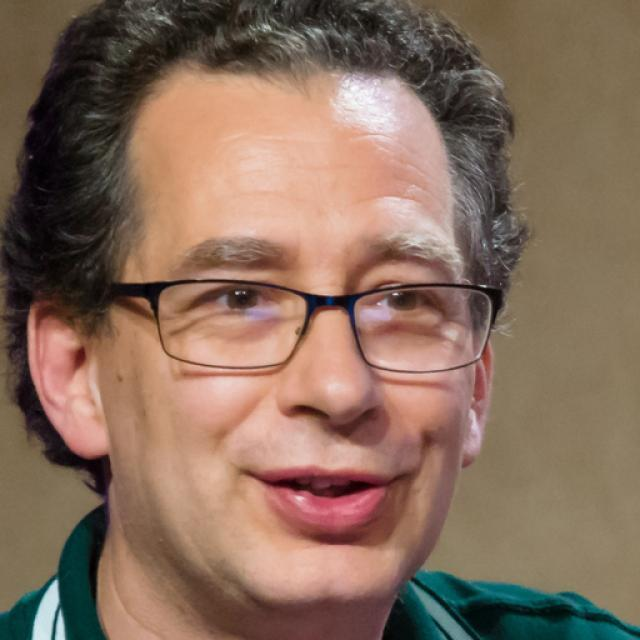happy: (108, 77, 478, 608)
